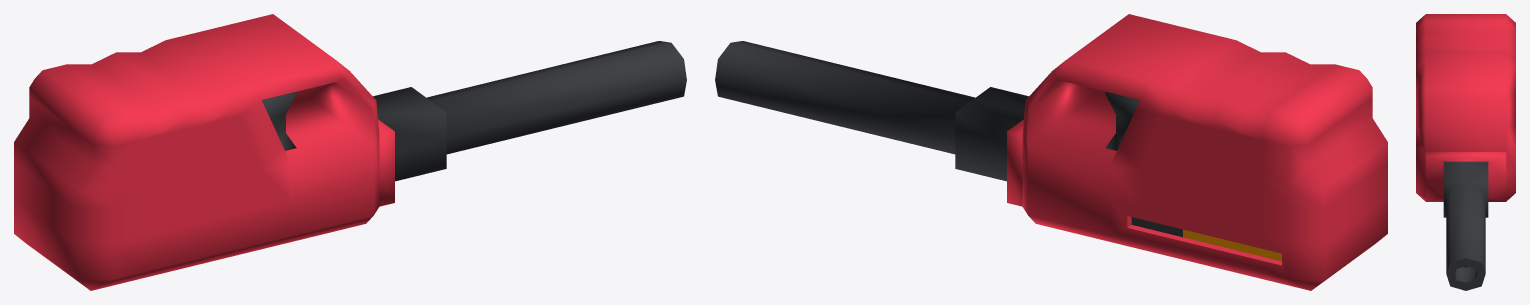
Rendered from SM_BBQ_Lighter_01.obj.
3 views of the same model, side by side, from view 1: azimuth 30°, elevation 25°; view 2: azimuth 150°, elevation 25°; view 3: azimuth 270°, elevation 25° (orthographic). The views are drawn at different scales.
Parts seen in each view (by area): view 1: SM_BBQ_Lighter_01_Mat_SwatchOverlay_PolygonTown_01_Inst; view 2: SM_BBQ_Lighter_01_Mat_SwatchOverlay_PolygonTown_01_Inst; view 3: SM_BBQ_Lighter_01_Mat_SwatchOverlay_PolygonTown_01_Inst.
Boxes of the visible parts, bbox=[...] form: SM_BBQ_Lighter_01_Mat_SwatchOverlay_PolygonTown_01_Inst: bbox=[14, 14, 686, 290]; SM_BBQ_Lighter_01_Mat_SwatchOverlay_PolygonTown_01_Inst: bbox=[715, 14, 1387, 290]; SM_BBQ_Lighter_01_Mat_SwatchOverlay_PolygonTown_01_Inst: bbox=[1416, 14, 1515, 290].
Size of the model in its own units: 0.4163 by 0.1084 by 0.0909.
Materials: 1 (1 with a texture image).
